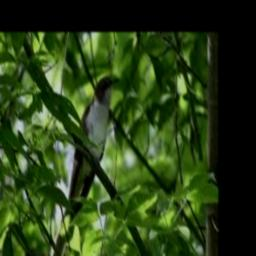Cuckoo: (48, 76, 118, 256)
